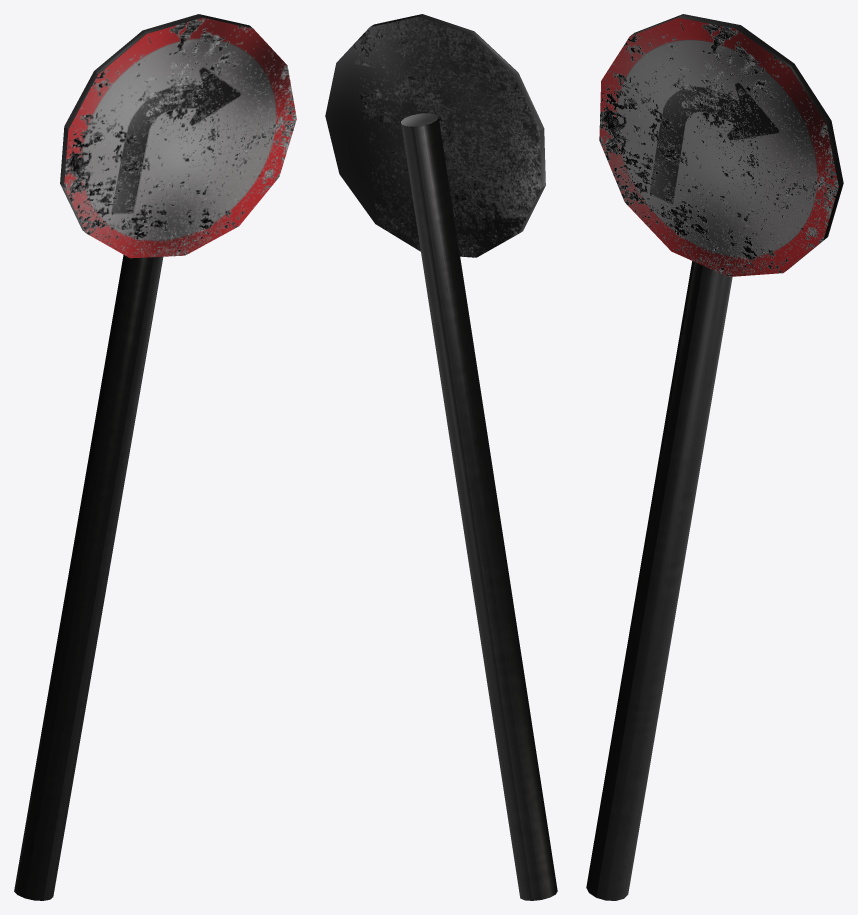
Rendered from placa.obj.
3 views of the same model, side by side, from view 1: azimuth 30°, elevation 25°; view 2: azimuth 150°, elevation 25°; view 3: azimuth 330°, elevation 25° (orthographic). The views are drawn at different scales.
Visible parts, largest first — view 1: Cylinder.001; view 2: Cylinder.001; view 3: Cylinder.001.
Part boxes in pixels (x1,y1,x2,y2): Cylinder.001: (14, 14, 296, 900); Cylinder.001: (325, 14, 557, 900); Cylinder.001: (586, 14, 843, 900).
Bounding box in the file's own units: 3.42 × 10.96 × 0.7971.
